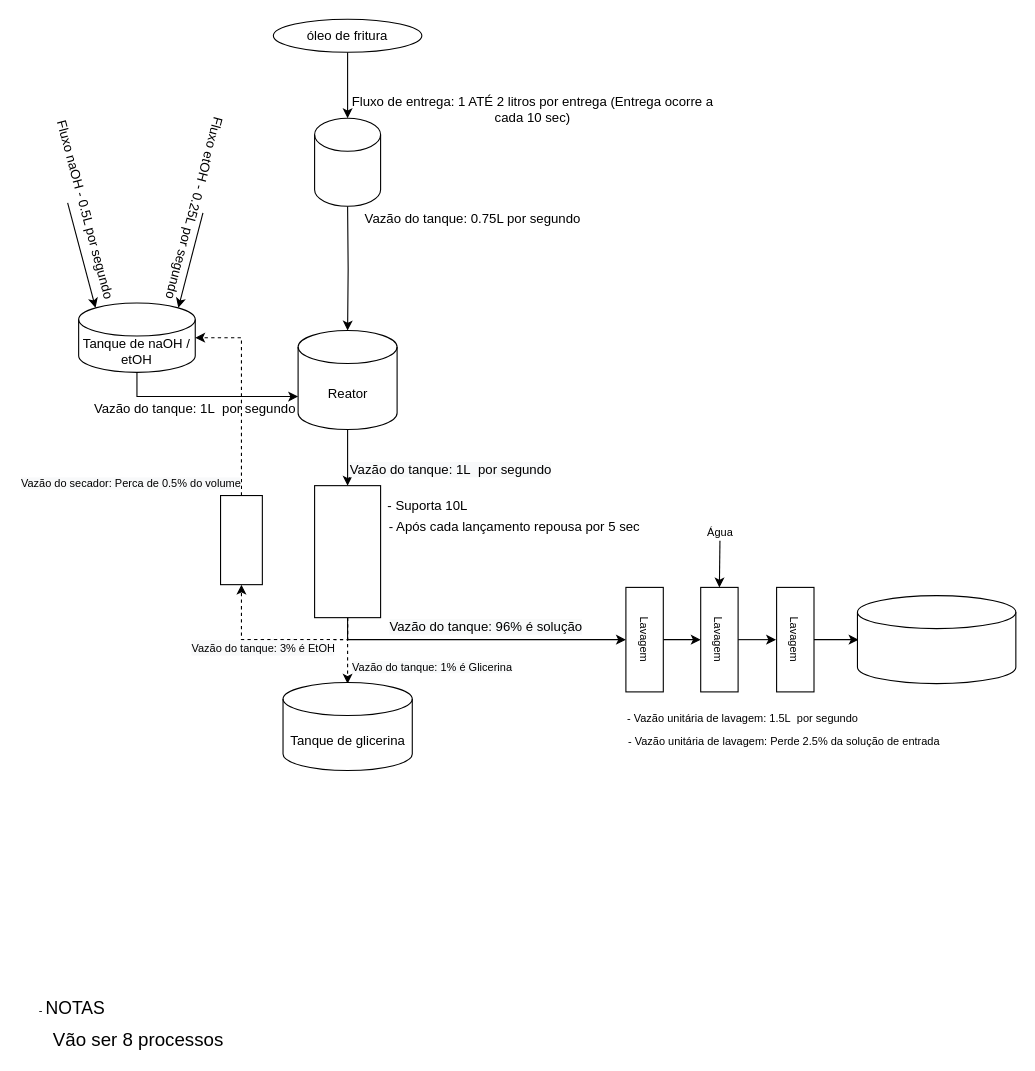
Some shapes in this 1035 by 1071 pixel diagram are drawn without their labels. Each missing label, with the centre of its shape:
Decantador: the point at 347,551
Secador: the point at 240,539
Tanque de biodiesel: the point at 936,639
Tanque de óleo: the point at 347,161
